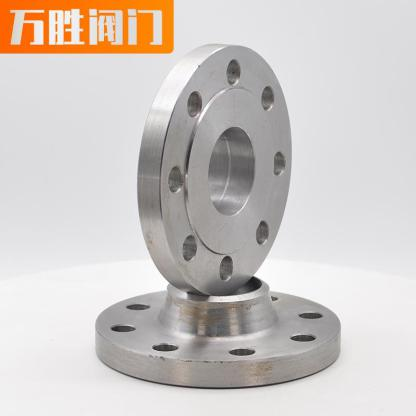FOD: (134, 37, 298, 297), (90, 271, 346, 393)
